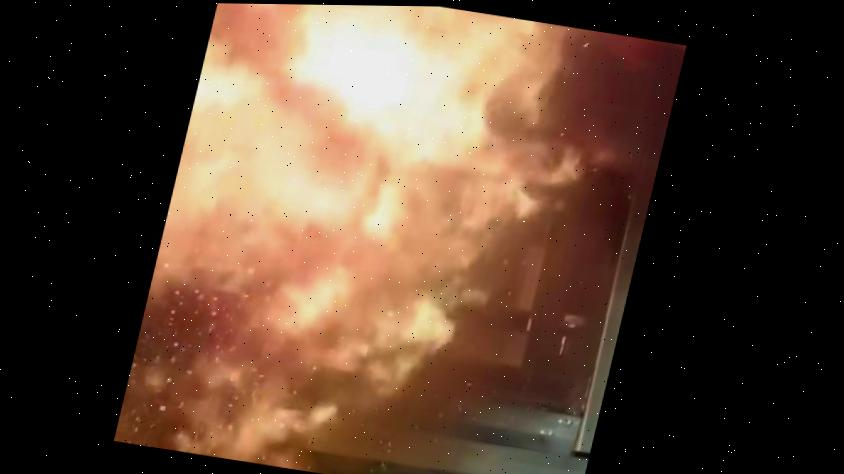fire: (157, 6, 616, 451)
